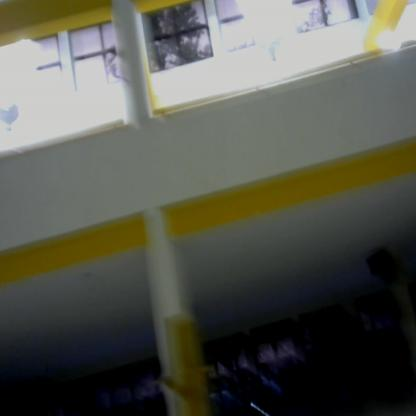pole: (155, 312, 218, 416)
